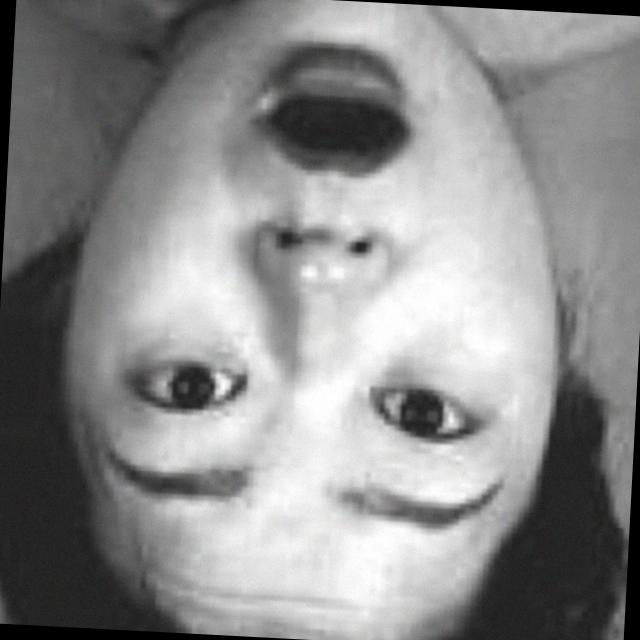surprise: (72, 0, 586, 634)
